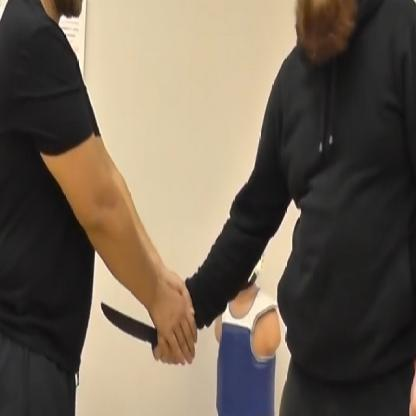knife: (98, 294, 199, 368)
